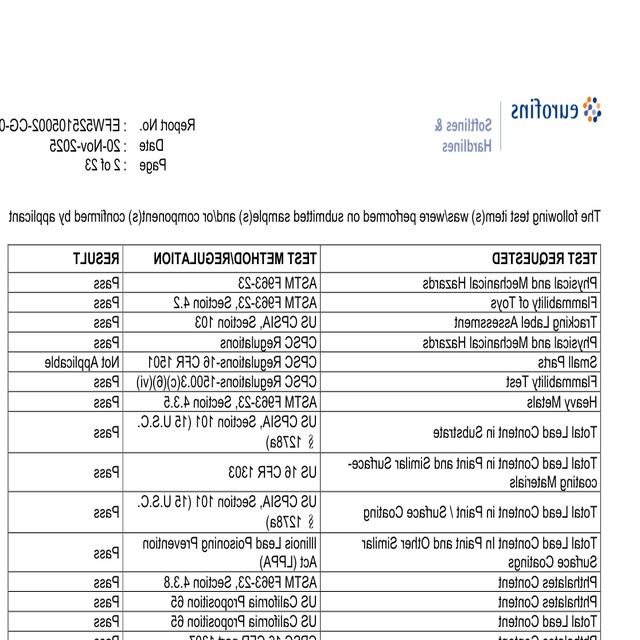eurofins: (505, 93, 606, 128)
